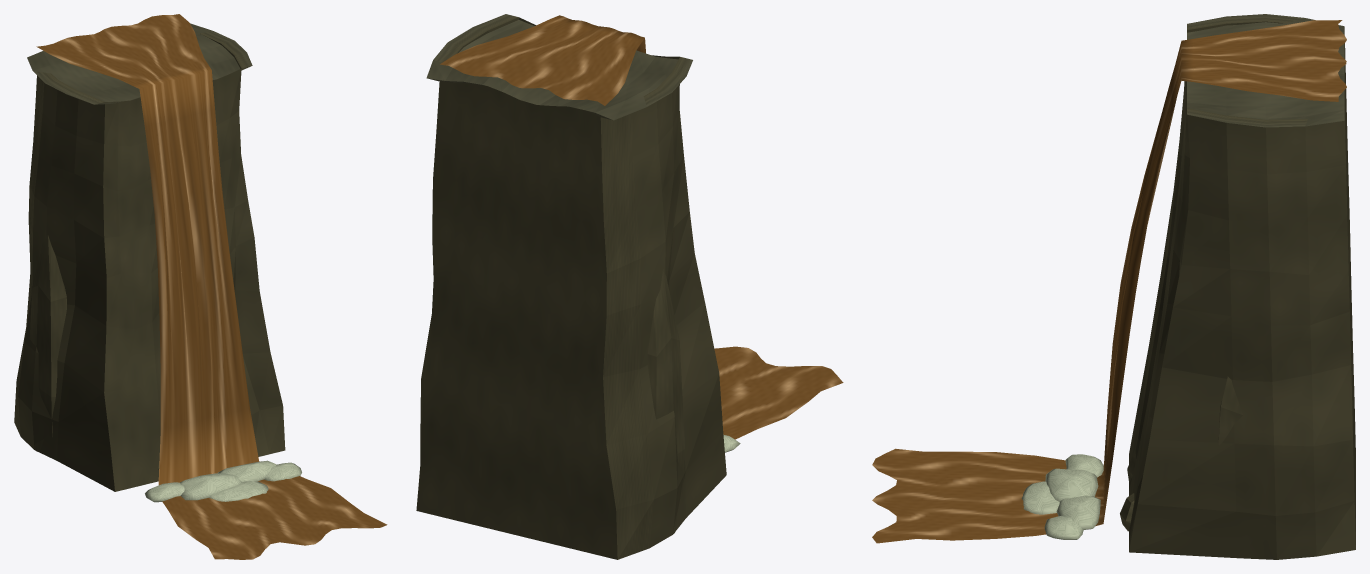
File: fall-hukou-lod0.glb
3 renders of one model, left to right at view 1: azimuth 30°, elevation 25°; view 2: azimuth 150°, elevation 25°; view 3: azimuth 270°, elevation 25°, orthographic. The views are drawn at different scales.
Size of the model in its own units: 0.5791 by 1 by 0.993.
Materials: 1 (1 with a texture image).
